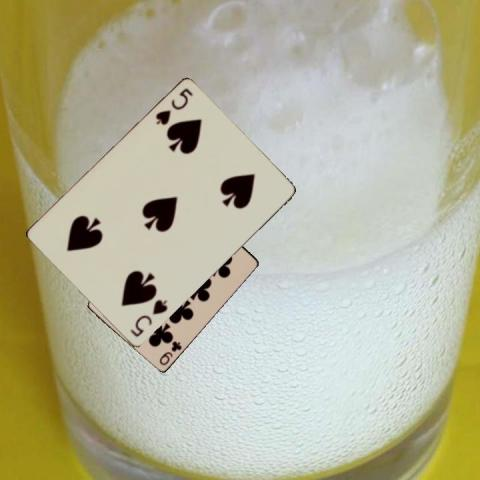5s: (152, 85, 194, 128), (128, 297, 170, 339)
9c: (156, 337, 183, 367)
